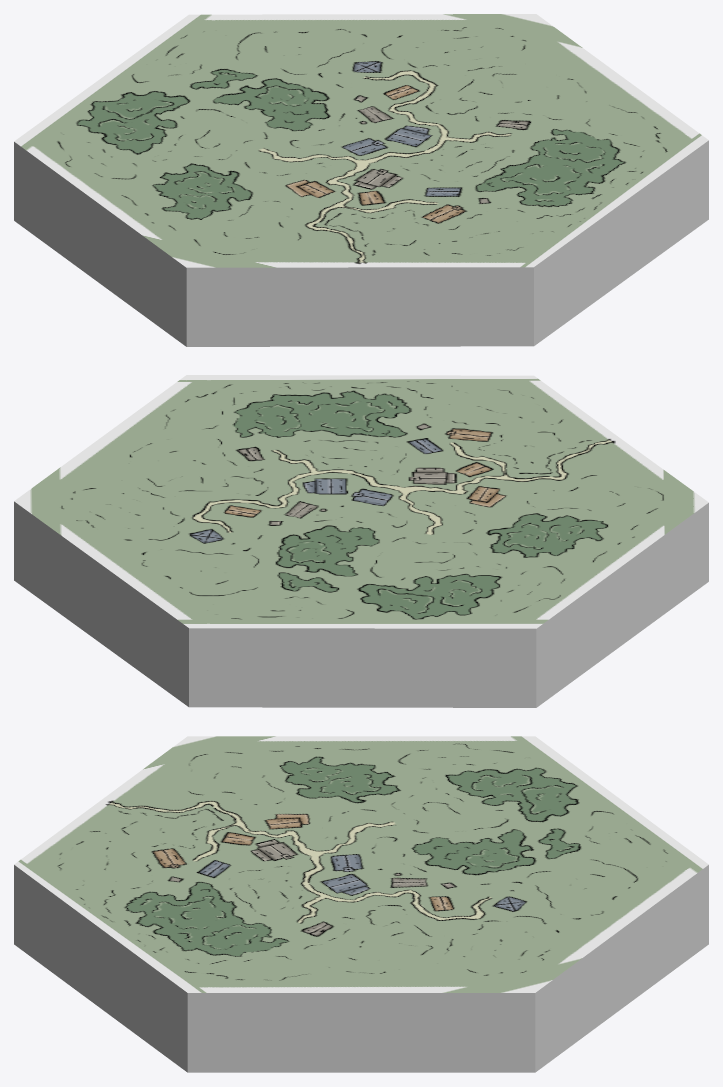
Rendered from LRA02.glb.
The picture shows the model from 3 angles, top to bottom: view 1: azimuth 30°, elevation 25°; view 2: azimuth 150°, elevation 25°; view 3: azimuth 270°, elevation 25°; orthographic projection.
Visible parts, largest first — view 1: Cylinder; view 2: Cylinder; view 3: Cylinder.
Part boxes in pixels (<box>): Cylinder: <box>14,14,708,346</box>; Cylinder: <box>14,375,708,707</box>; Cylinder: <box>14,736,708,1072</box>.
Bounding box in the file's own units: 1.73 × 0.2501 × 1.97.
Materials: 3 (2 with a texture image).
